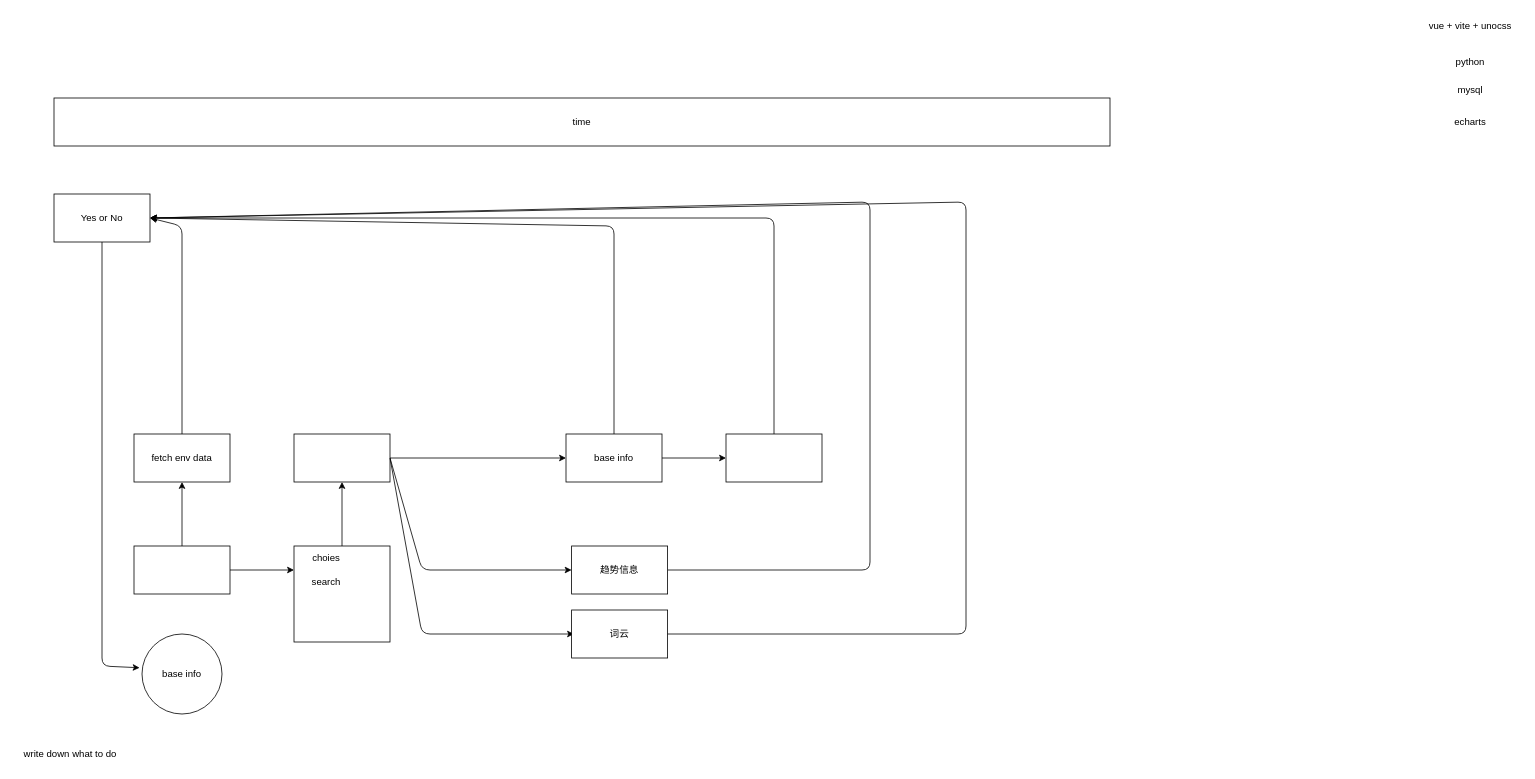
The diagram is 1535 pixels wide and 779 high, and some of its shapes have lost their labels. The shapes that lost their labels are listed below. From the top down, each one's box as (x1, y1, x2, y2) in pixels, then its label:
(293, 433, 390, 482): fetch data
(725, 433, 822, 482): 扩展信息
(133, 545, 230, 594): how to decide
(293, 545, 390, 642): list
